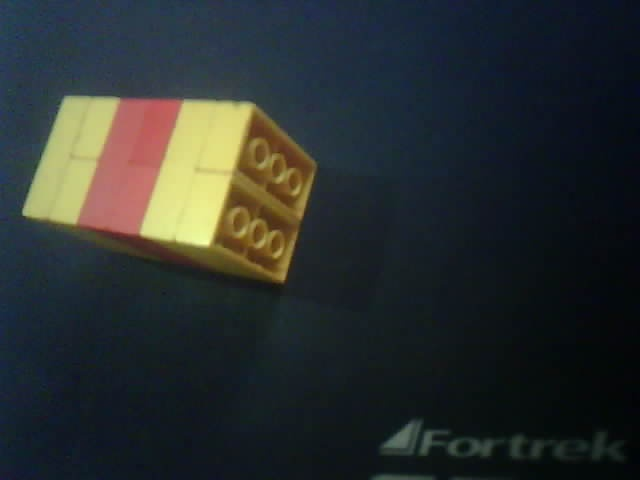lego: (18, 92, 319, 287)
